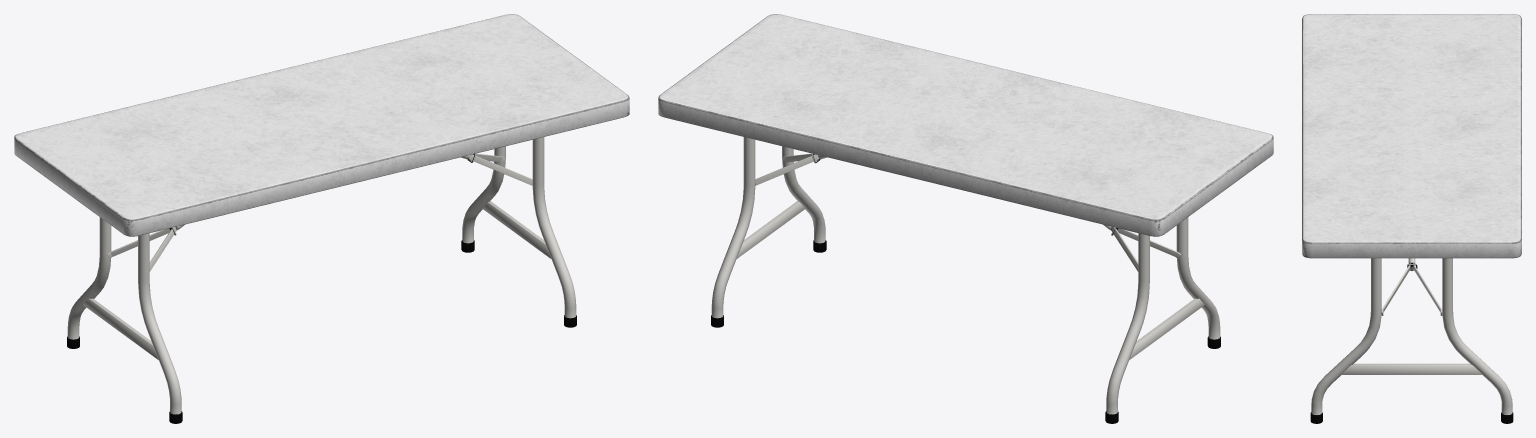
Rendered from table.obj.
3 views of the same model, side by side, from view 1: azimuth 30°, elevation 25°; view 2: azimuth 150°, elevation 25°; view 3: azimuth 270°, elevation 25° (orthographic). The views are drawn at different scales.
Visible parts, largest first — view 1: Folding_Table_; view 2: Folding_Table_; view 3: Folding_Table_.
Part boxes in pixels (<box>): Folding_Table_: <box>14,14,629,423</box>; Folding_Table_: <box>658,14,1273,423</box>; Folding_Table_: <box>1302,14,1521,423</box>.
Size of the model in its own units: 2 by 0.8282 by 0.8104.
1 material, 1 textured.
